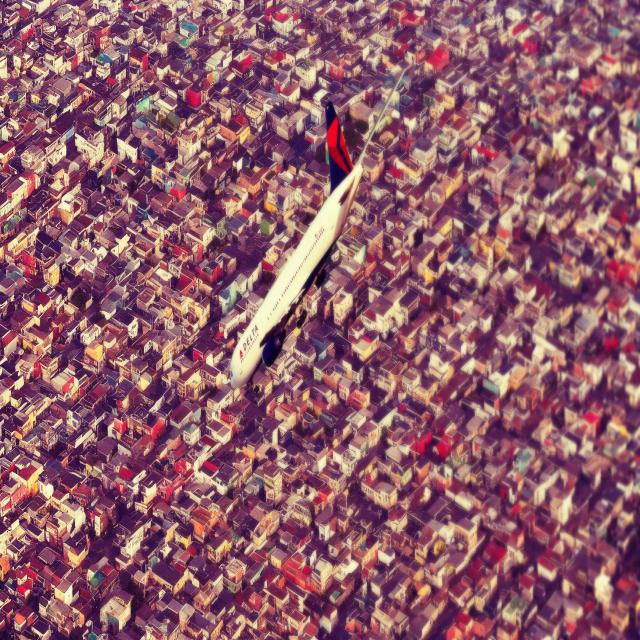airplane: (228, 60, 414, 390)
